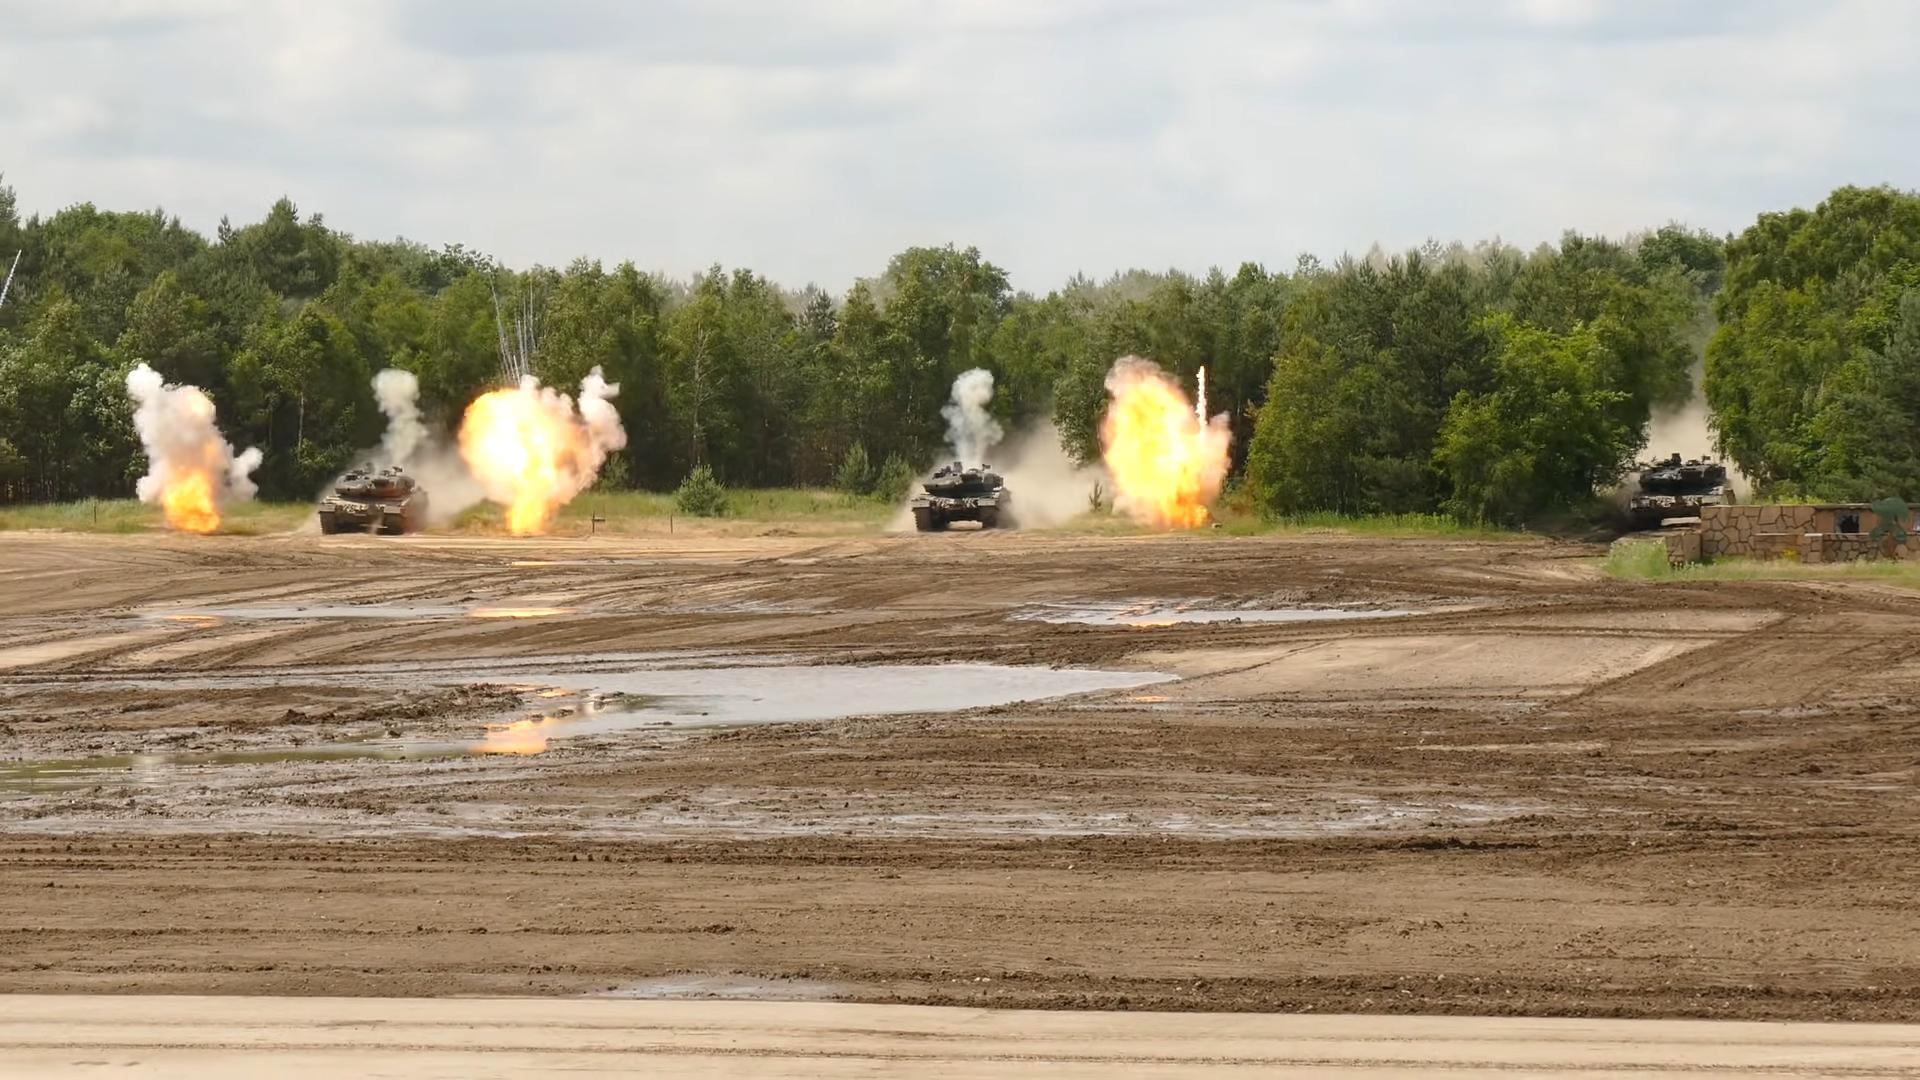tank: (1630, 452, 1735, 530), (318, 462, 430, 534), (911, 462, 1011, 531)
